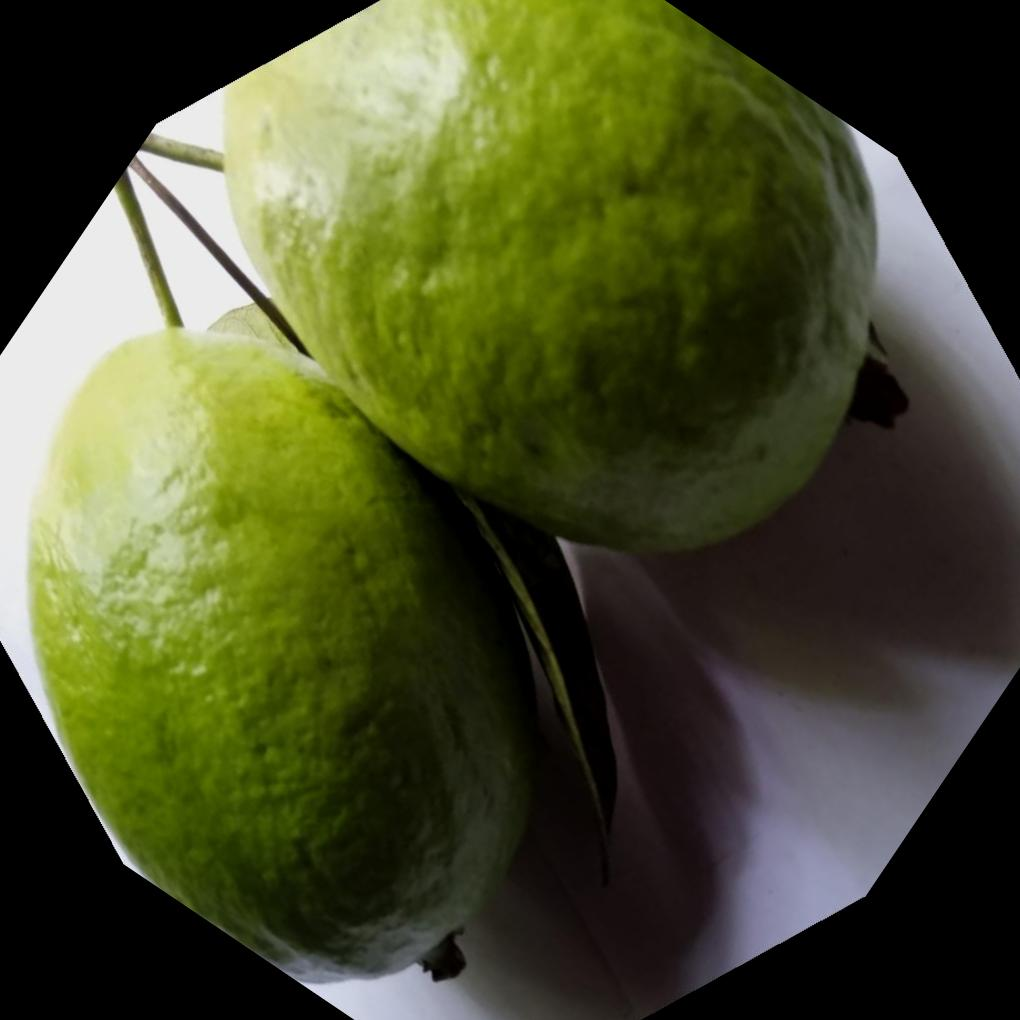FreshGuava: (0, 0, 909, 989)
